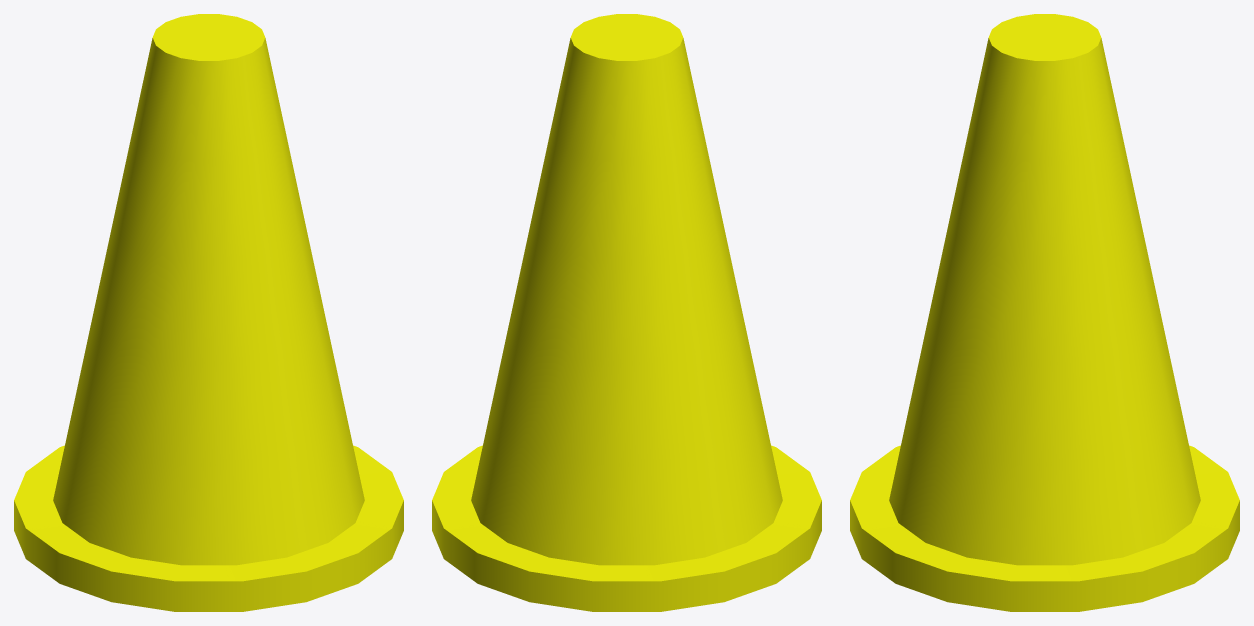
The model's file is parking_cone00.glb.
3 views of the same model, side by side, from view 1: azimuth 30°, elevation 25°; view 2: azimuth 150°, elevation 25°; view 3: azimuth 270°, elevation 25° (orthographic).
Parts seen in each view (by area): view 1: parking_cone00; view 2: parking_cone00; view 3: parking_cone00.
Boxes of the visible parts, x1,y1,x2,y2 form: parking_cone00: [14, 14, 403, 611]; parking_cone00: [432, 14, 821, 611]; parking_cone00: [850, 14, 1239, 611].
Size of the model in its own units: 0.7121 by 1.01 by 0.7231.
Materials: 1 (1 with a texture image).
